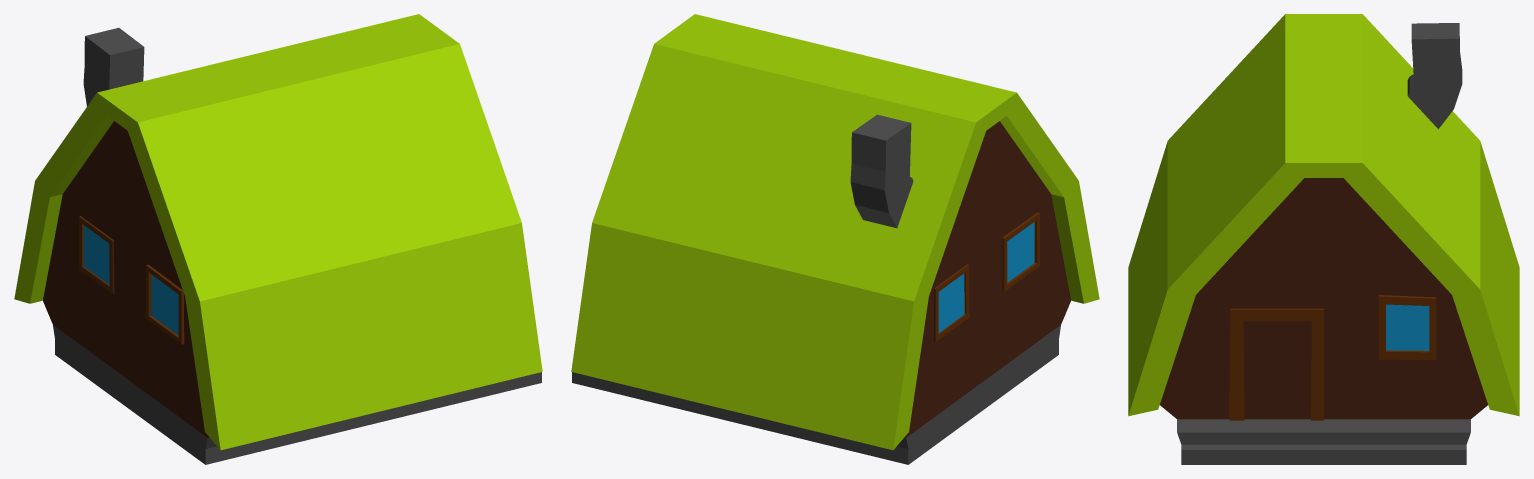
File: HouseTypeA.fbx
3 renders of one model, left to right at view 1: azimuth 30°, elevation 25°; view 2: azimuth 150°, elevation 25°; view 3: azimuth 270°, elevation 25°, orthographic. The views are drawn at different scales.
Parts seen in each view (by area): view 1: Cylinder; view 2: Cylinder; view 3: Cylinder.
Boxes of the visible parts, left/top/right/bottom form: Cylinder: left=14, top=14, right=542, bottom=464; Cylinder: left=571, top=14, right=1099, bottom=464; Cylinder: left=1128, top=14, right=1519, bottom=464.
Size of the model in its own units: 114 by 98.04 by 116.
